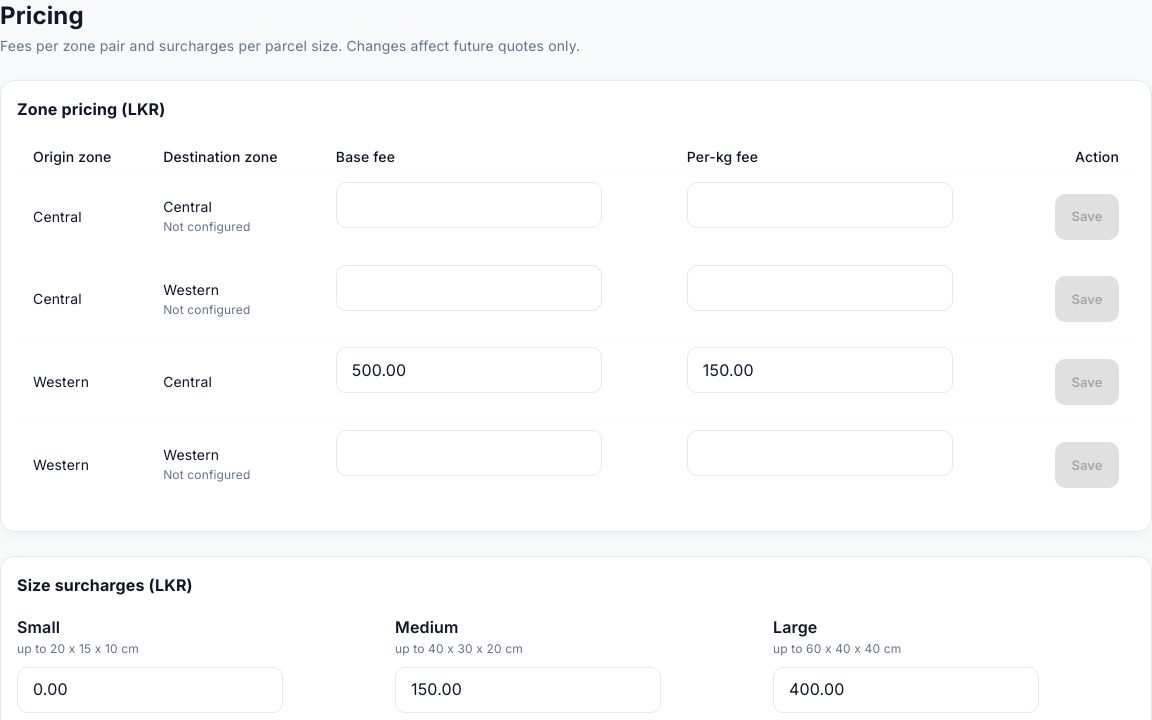
Test: TST-040 Member #5 admin pricing page (FR-PRC-007) › cancelling the confirmation sends nothing and keeps the edited values
Replace the text in the field named "Base fee Western to Central" with "600": (469, 370) [336,347,602,393]
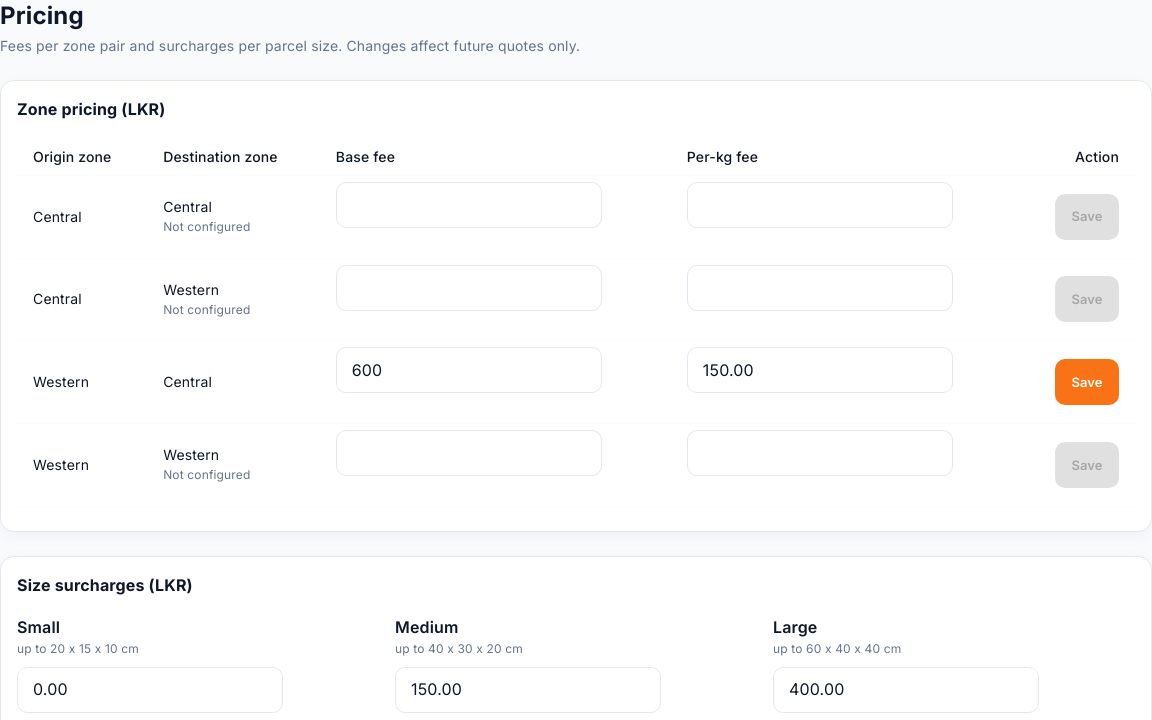
Click the button with aria-label "Save Western to Central": (1087, 382) [1055,359,1119,405]
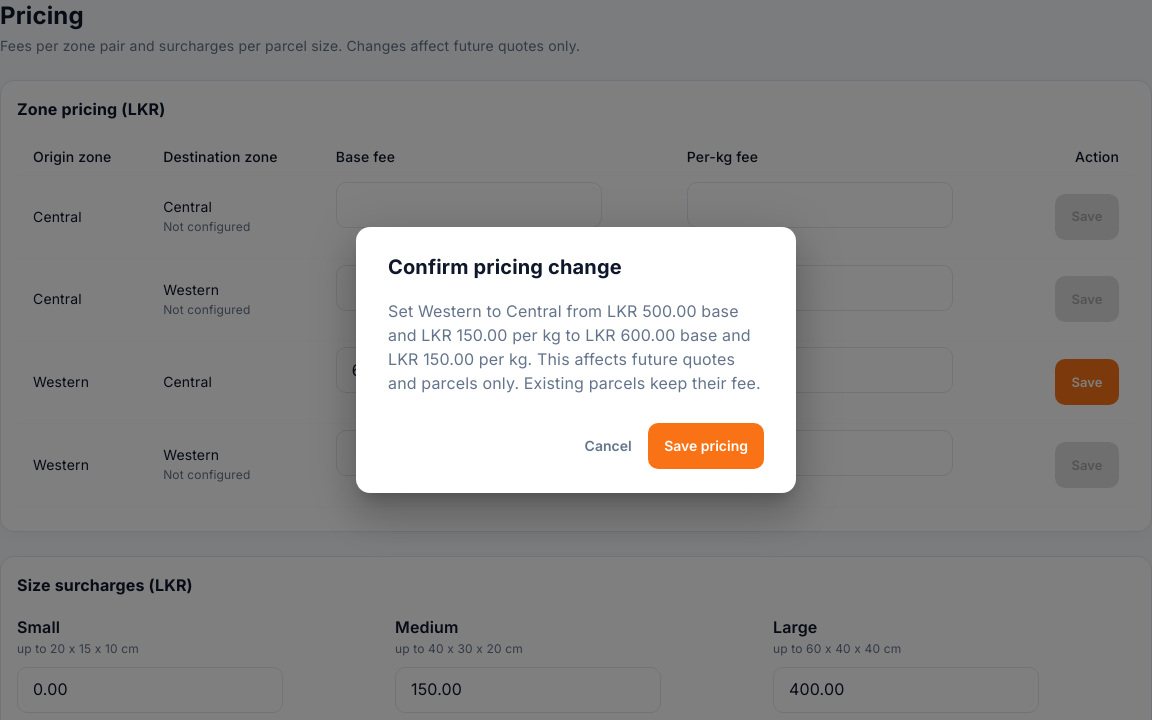
Click the button "Cancel": (608, 446) [576,423,640,469]
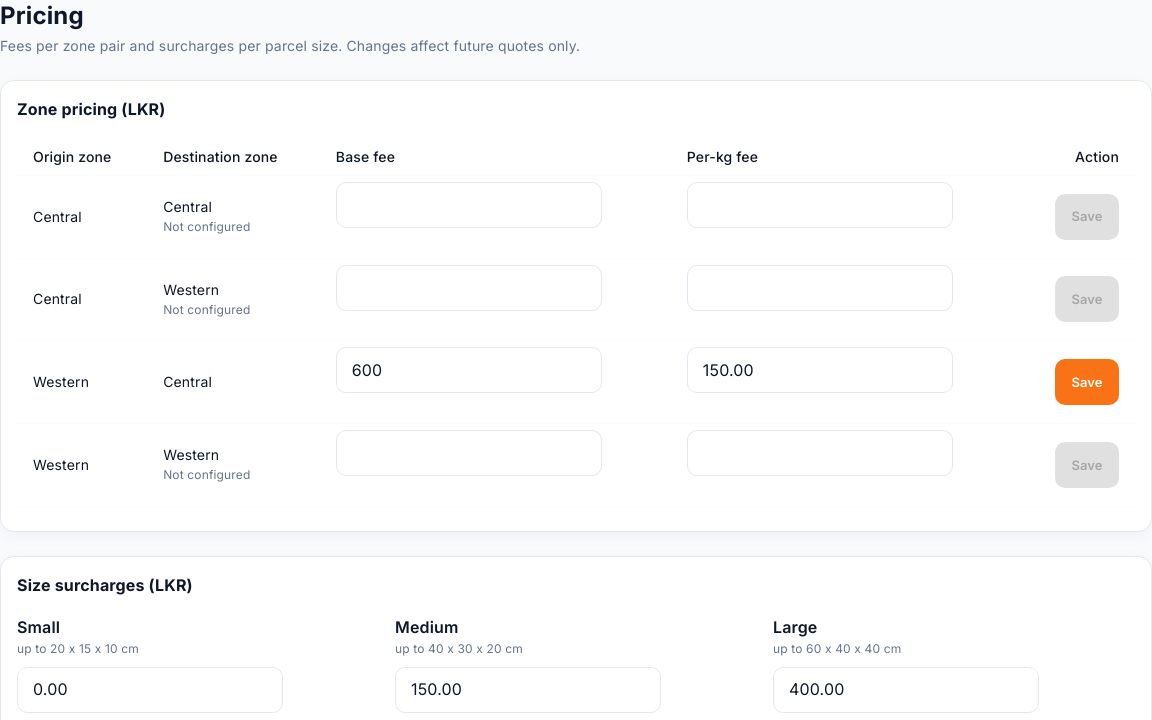
Now the dialog is gone
